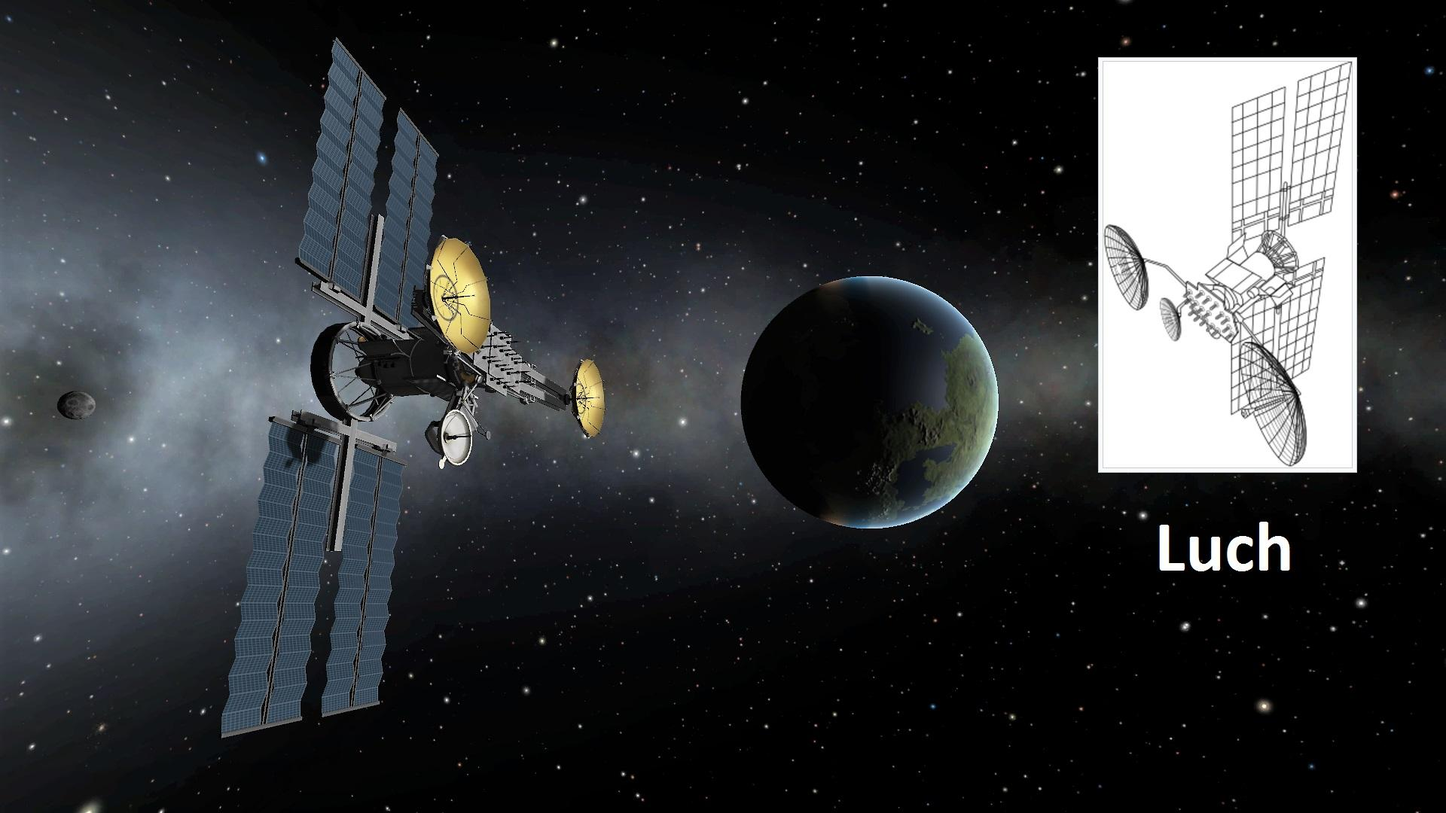antenna: (1239, 339, 1310, 469), (423, 233, 493, 361), (1103, 221, 1152, 313), (567, 355, 609, 440), (437, 407, 474, 470), (1158, 294, 1184, 343)
body: (353, 337, 468, 399), (1202, 250, 1277, 315)
solar: (219, 414, 343, 741), (319, 441, 412, 720), (294, 34, 389, 304), (371, 104, 441, 333), (1287, 61, 1353, 206), (1229, 85, 1289, 224), (1229, 292, 1277, 418), (1276, 274, 1326, 387)
